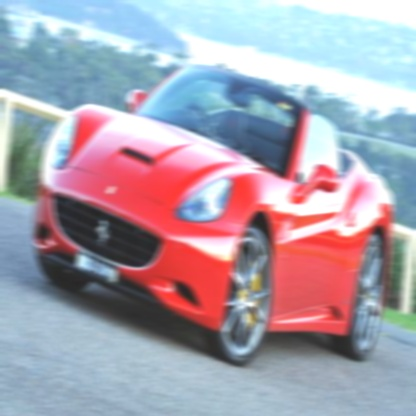Vehicle: (33, 61, 392, 367)
